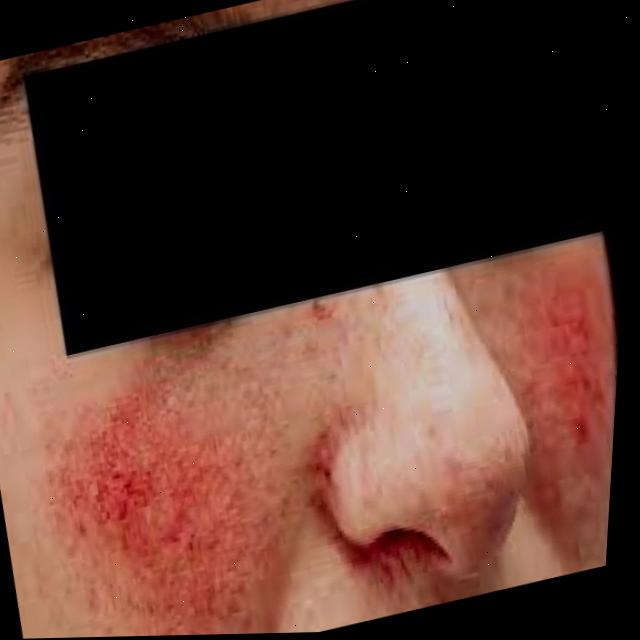Rosacea: (46, 347, 348, 638), (465, 251, 624, 490)
